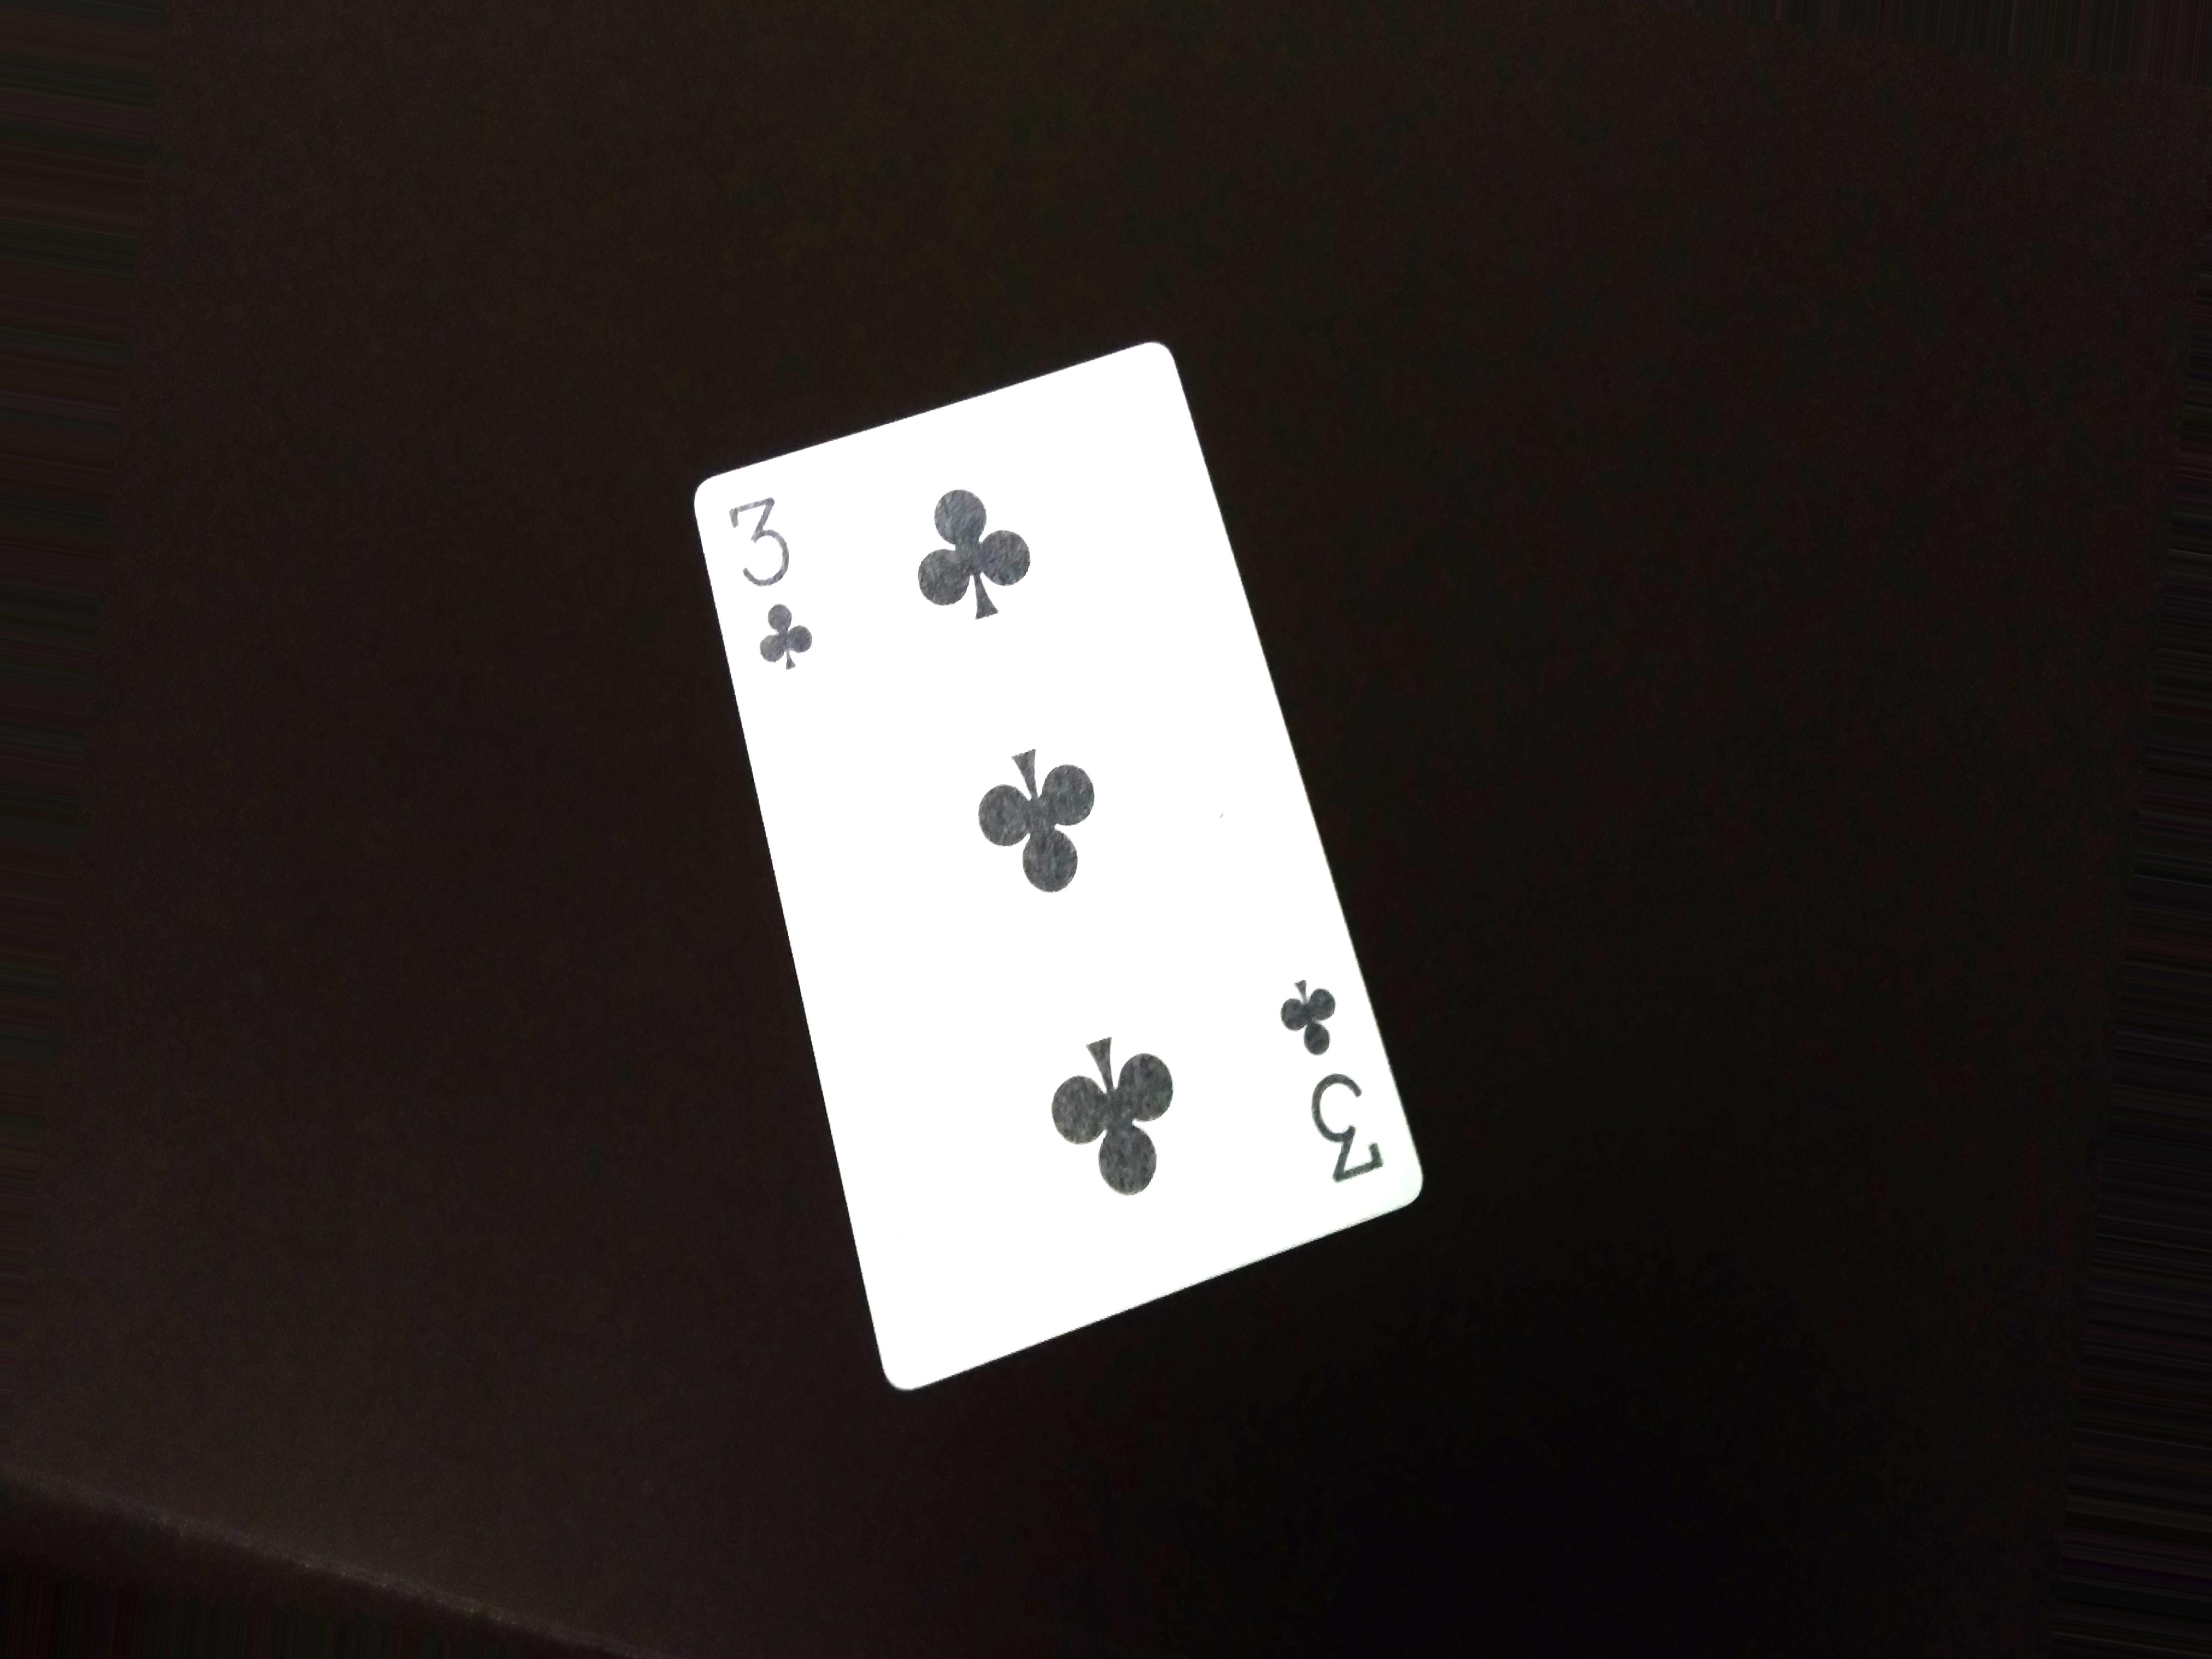3C: (1251, 978, 1428, 1208)
